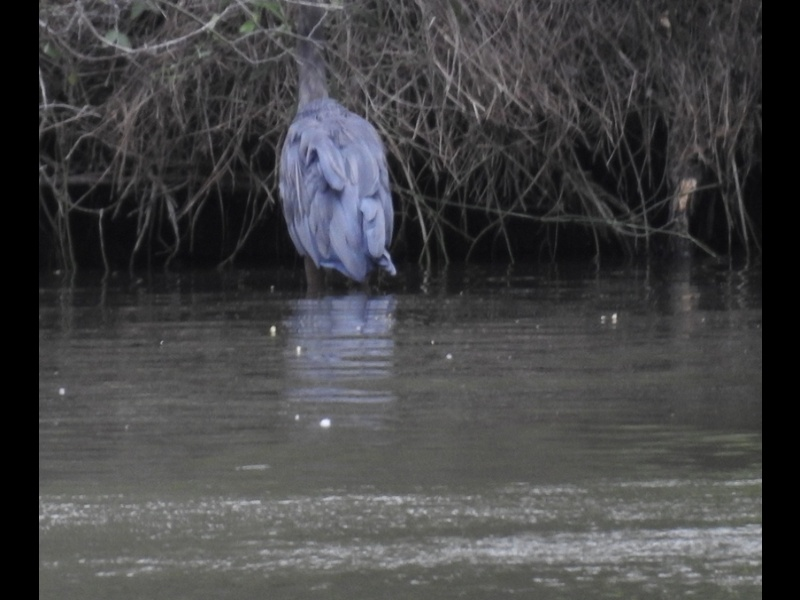heron: (261, 16, 397, 296)
